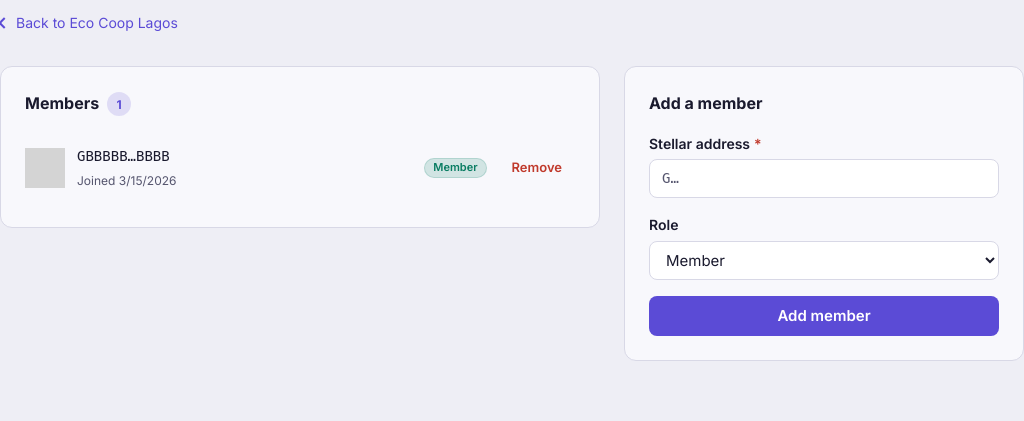
Test case: MembersPage › add member form › shows a validation error when submitting an invalid Stellar address
Type "not-a-valid-key" into the field labelled "Stellar address*" at (824, 179), box [649,159,999,198]
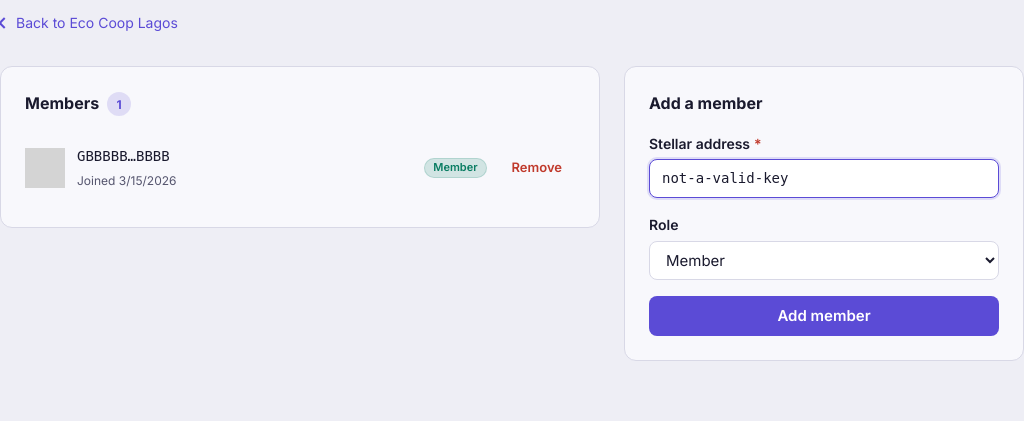
Click the button "Add member" at (824, 316), box [649,296,999,336]
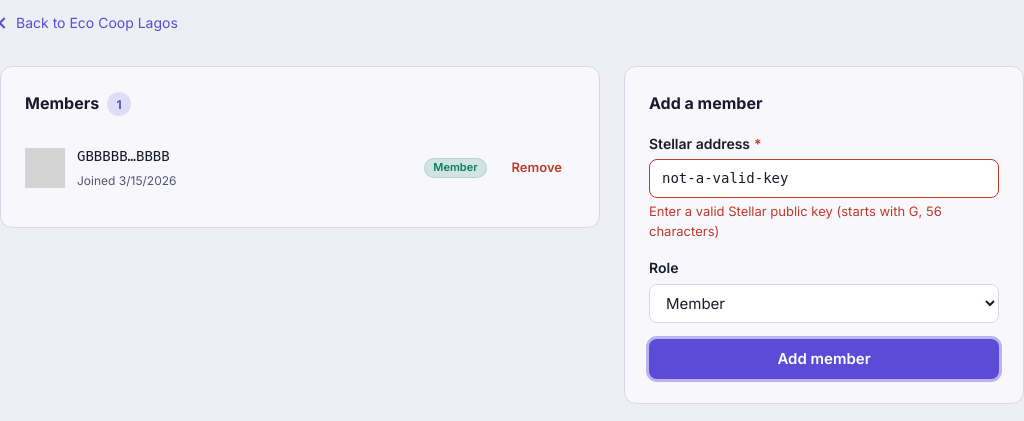
Expected: the text "Enter a valid Stellar public key (starts with G, 56 characters)" is shown, [649,203,942,239]
